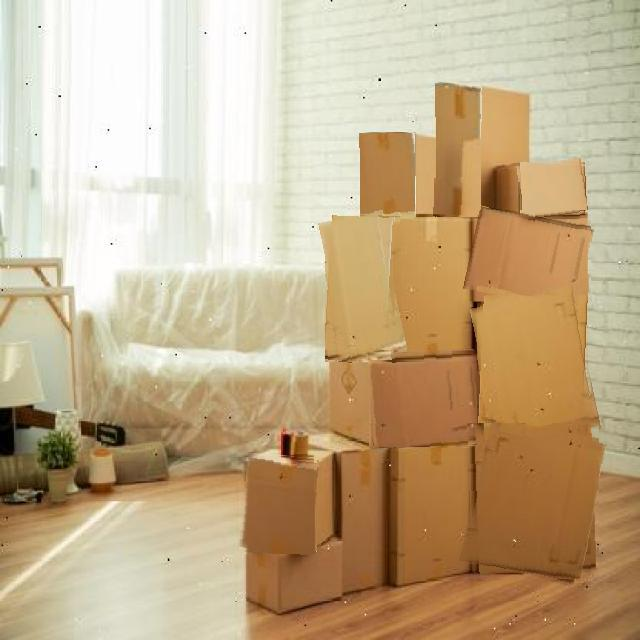BoxFace: (467, 423, 599, 582), (477, 292, 595, 445), (467, 210, 591, 307), (325, 213, 400, 362), (368, 350, 481, 448), (240, 454, 317, 554), (434, 83, 481, 217), (360, 133, 415, 219), (518, 160, 587, 220)
